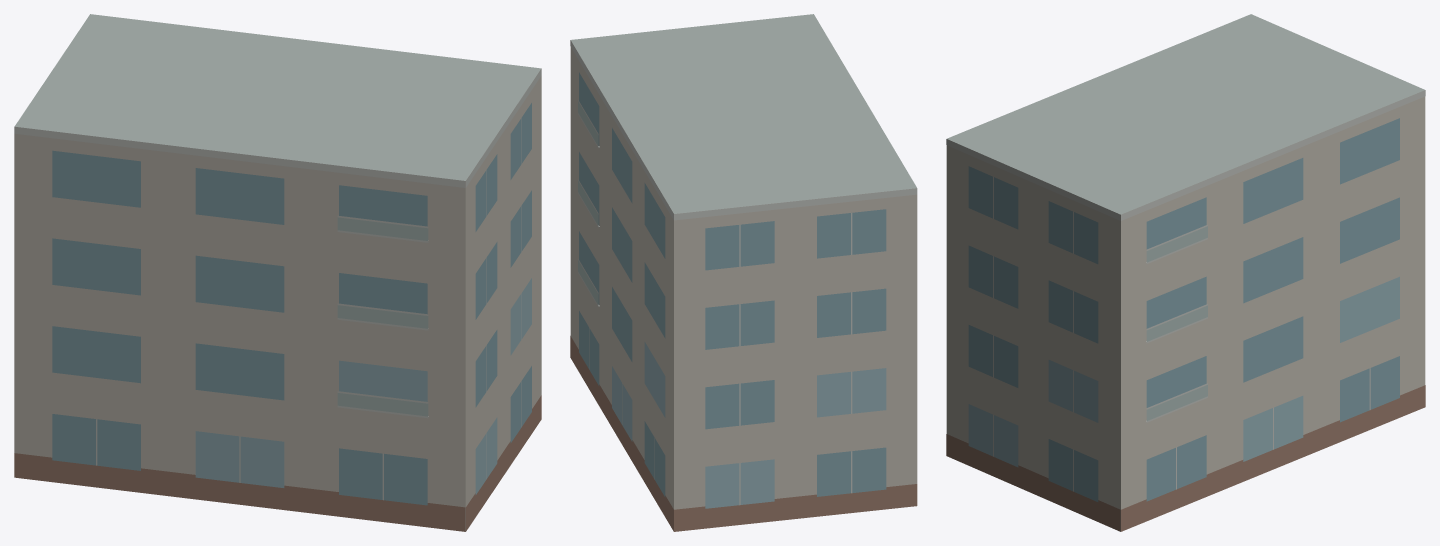
Rendered from residential-1b781411-1a2c-44b7-a1a0-33d57718a70a.glb.
3 renders of one model, left to right at view 1: azimuth 30°, elevation 25°; view 2: azimuth 150°, elevation 25°; view 3: azimuth 270°, elevation 25°, orthographic. The views are drawn at different scales.
Parts seen in each view (by area): view 1: residential-1b781411-1a2c-44b7-a1a0-33d57718a70a.tmp; view 2: residential-1b781411-1a2c-44b7-a1a0-33d57718a70a.tmp; view 3: residential-1b781411-1a2c-44b7-a1a0-33d57718a70a.tmp.
Part boxes in pixels (x1=…): residential-1b781411-1a2c-44b7-a1a0-33d57718a70a.tmp: x1=14, y1=14, x2=541, y2=531; residential-1b781411-1a2c-44b7-a1a0-33d57718a70a.tmp: x1=570, y1=14, x2=917, y2=531; residential-1b781411-1a2c-44b7-a1a0-33d57718a70a.tmp: x1=946, y1=14, x2=1425, y2=531.
Size of the model in its own units: 16.57 by 12.2 by 16.71.
